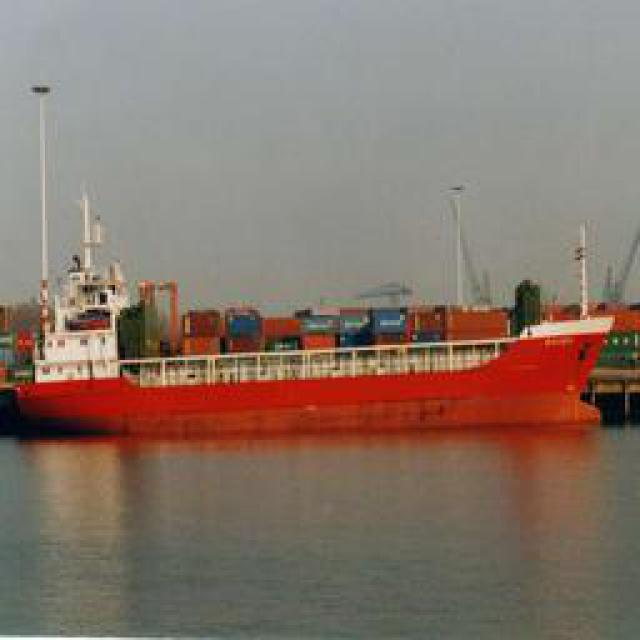Ship: (5, 315, 618, 433)
